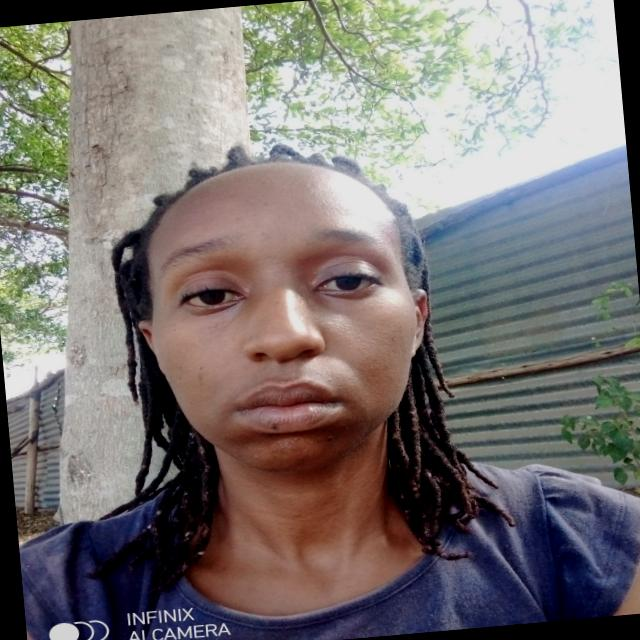eyebrow: (159, 234, 233, 267), (313, 224, 384, 244)
